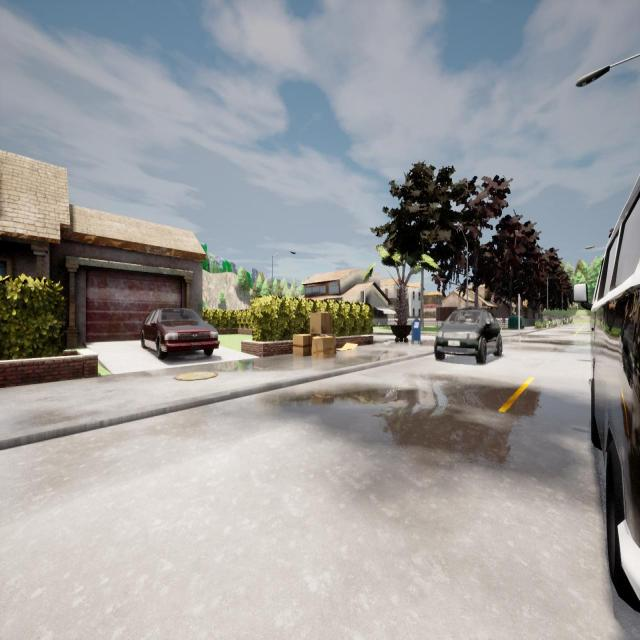Vehicle: (574, 180, 640, 614), (140, 308, 221, 361), (434, 308, 503, 366)
traffic_light: (360, 291, 364, 303), (518, 298, 522, 310)
